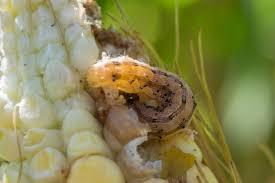fallarmy_worm: (139, 59, 204, 139)
